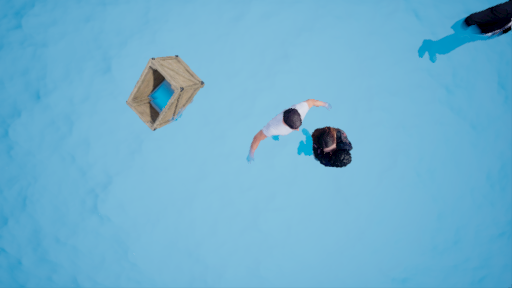person: (248, 81, 360, 181)
